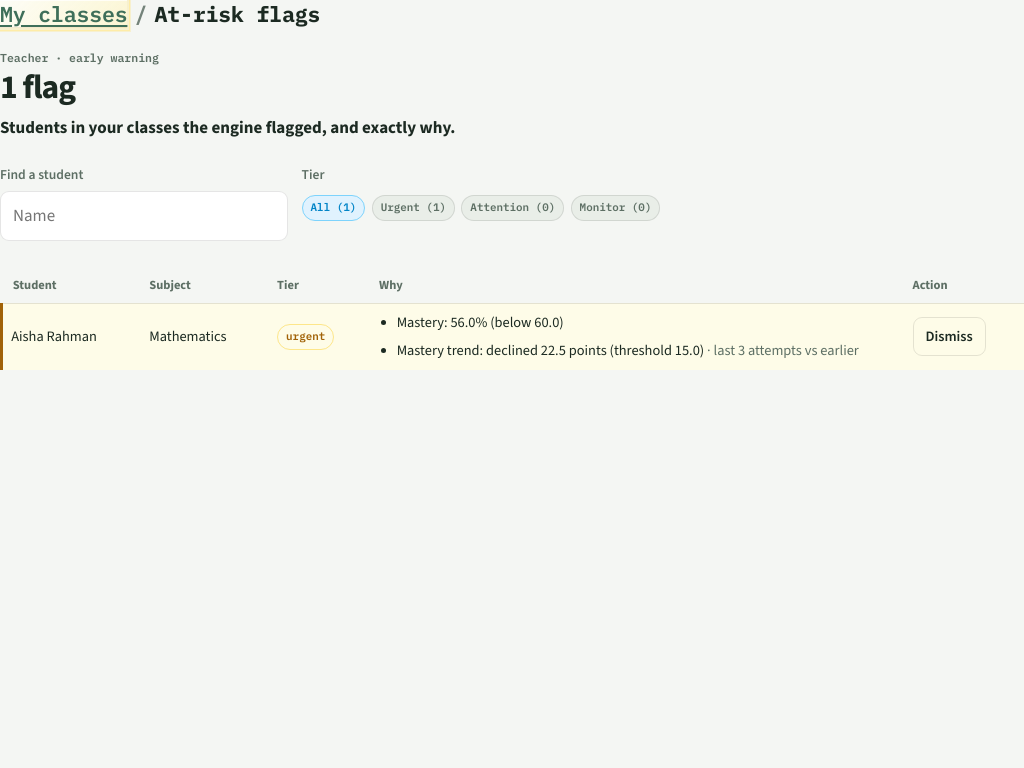
it: AtRiskPage › dismisses a flag with a note and removes it from the list
The image size is (1024, 768).
Check: the text "Aisha Rahman" is shown, box 2,303 -> 138,370
Click the button "Dismiss": [949, 337] box 912,318 -> 986,356
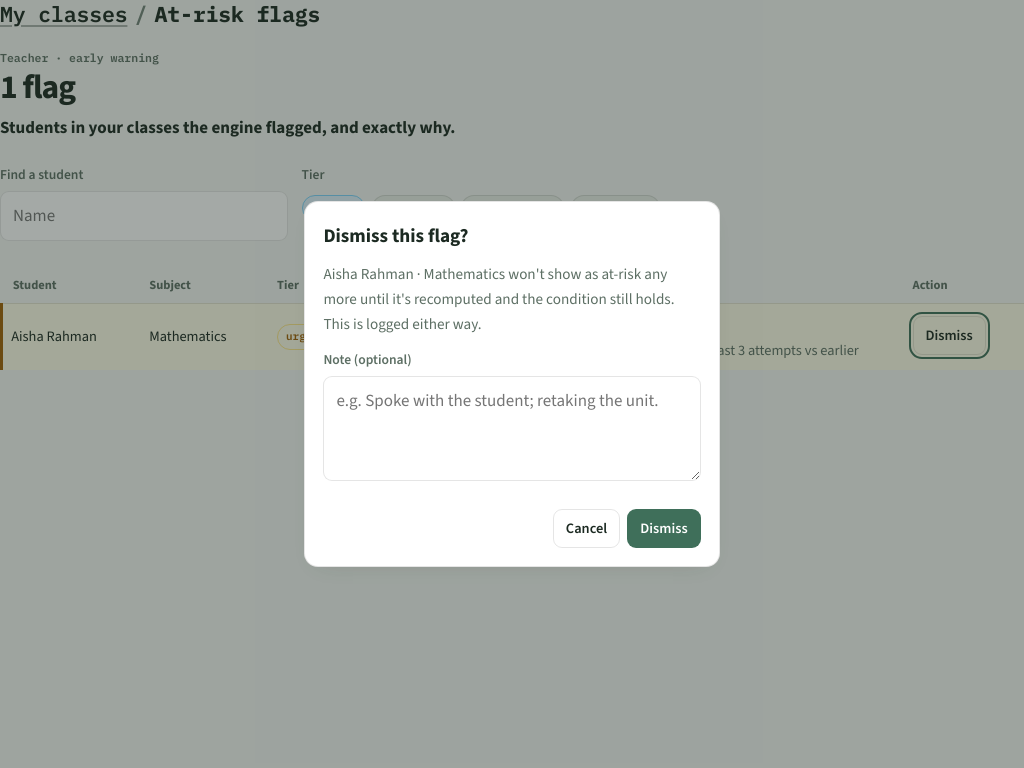
In the text box labelled "Note (optional)": [512, 429] box 323,376 -> 701,481, type "Spoke with the student."
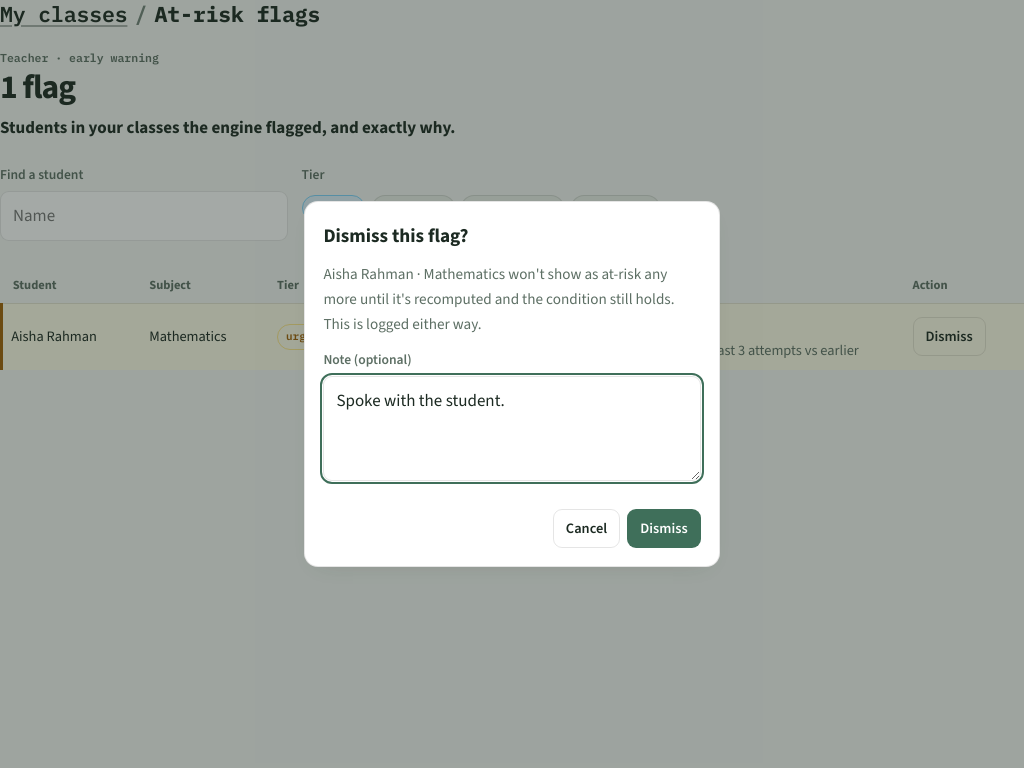
Click the button "Dismiss": [664, 528] box 627,509 -> 701,548
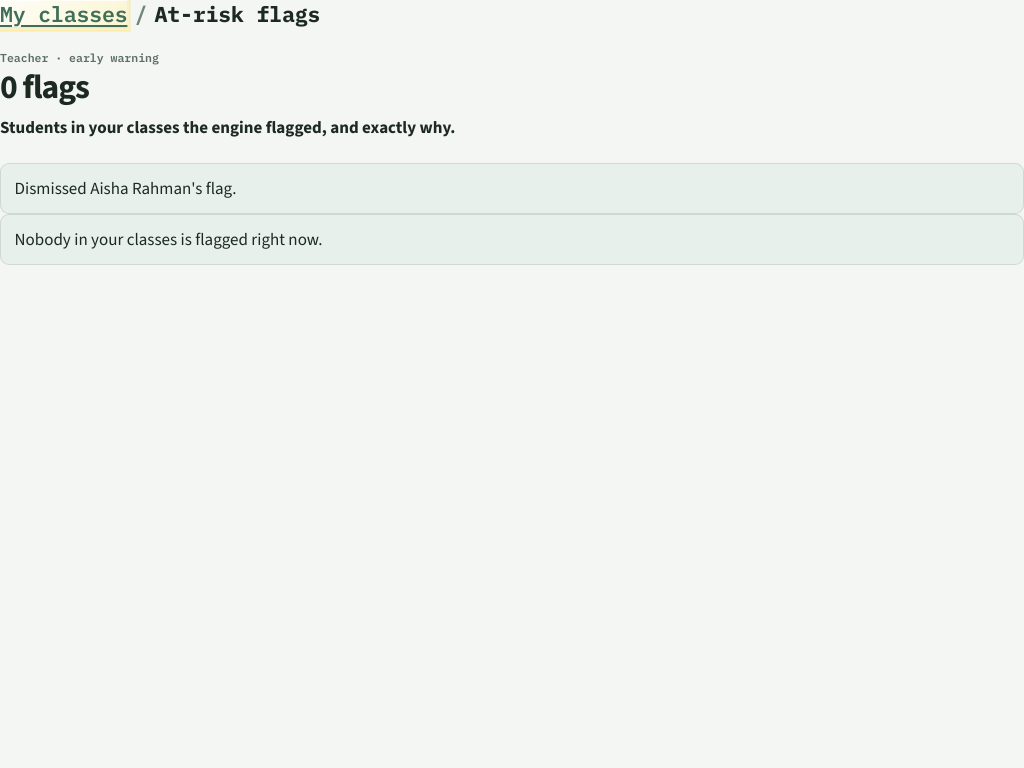
Check: the text "Dismissed Aisha Rahman's flag." is shown, box 0,163 -> 1023,214
